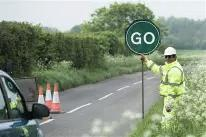Go: (124, 21, 160, 54)
